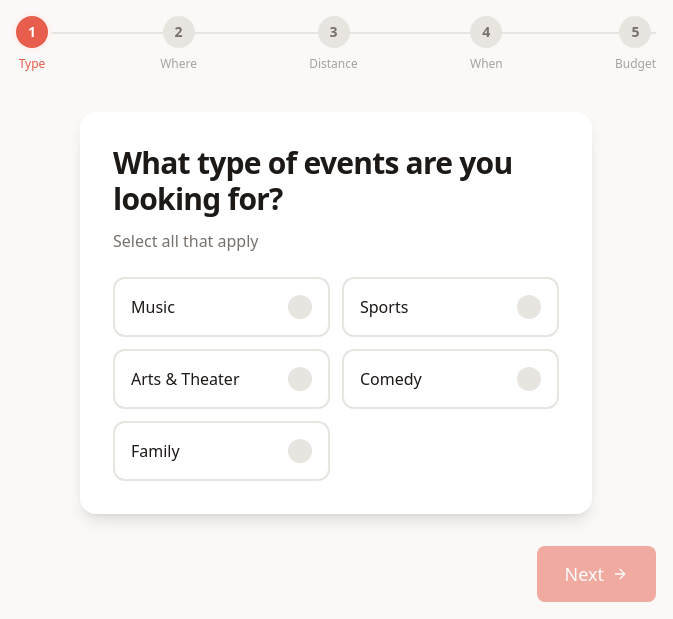
QuestionFlow › enables Next button when answer is selected
// Find an option and click it
Step 1. Click the button "Music" → (222, 307), box [113,277,330,337]
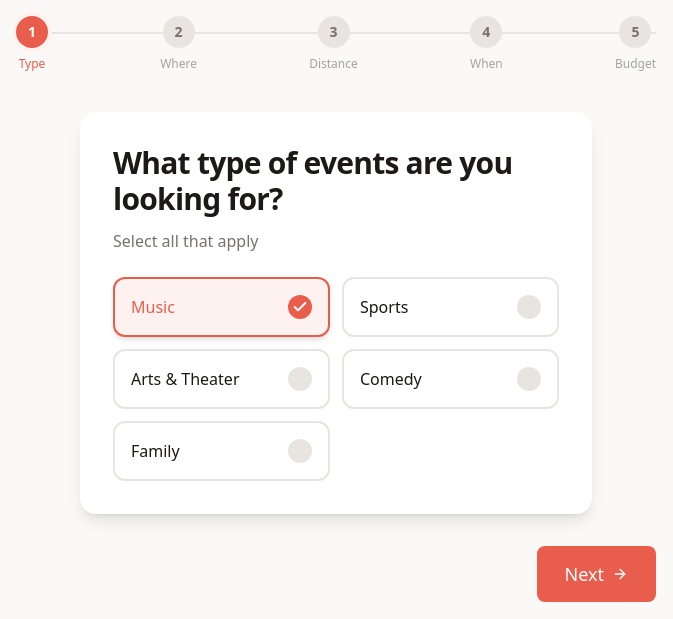
Result: the button "Next" is enabled at [536,546,656,602]
